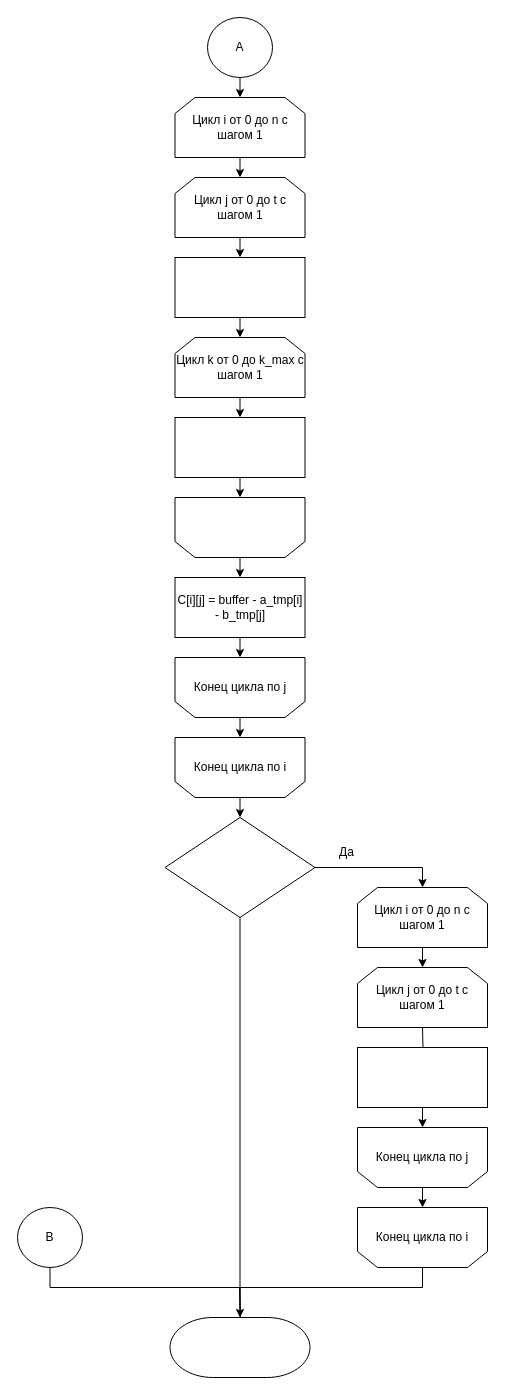
This 505x1395 diagram has some shape labels left out. Here are the shapes that lost their labels. From the top down, the centre of each, then its label:
At (x=239, y=287): "buffer = 0".
At (x=239, y=447): "buffer = buffer + (A[i][2*k] + B[2*k+1][j]) * (A[i][2*k+1] + B[2*k][j])".
At (x=239, y=527): "Конец цикла по k".
At (x=239, y=867): "m - четное".
At (x=422, y=1077): "C[i][j] = C[i][j] + A[i][last] * B[last][j]".
At (x=239, y=1347): "Начало".
